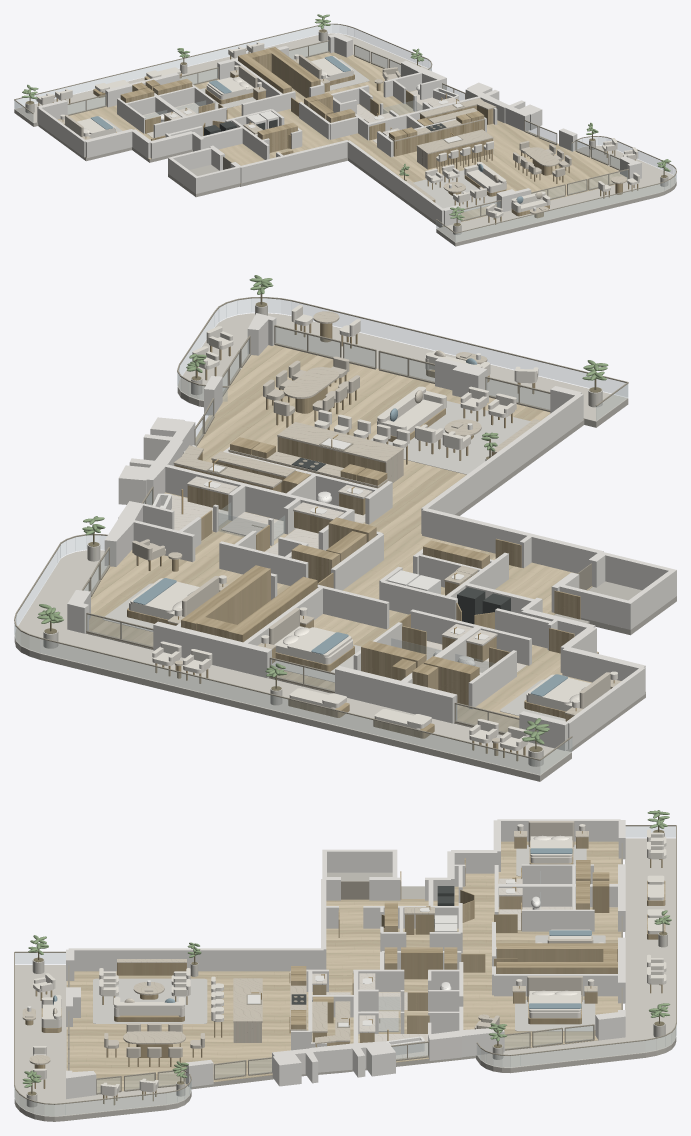
3 views of the same model, one above another, from view 1: azimuth 30°, elevation 25°; view 2: azimuth 150°, elevation 25°; view 3: azimuth 270°, elevation 25° (orthographic). The views are drawn at different scales.
Size of the model in its own units: 24.94 by 1.62 by 25.04.
Materials: 18 (4 with a texture image).
